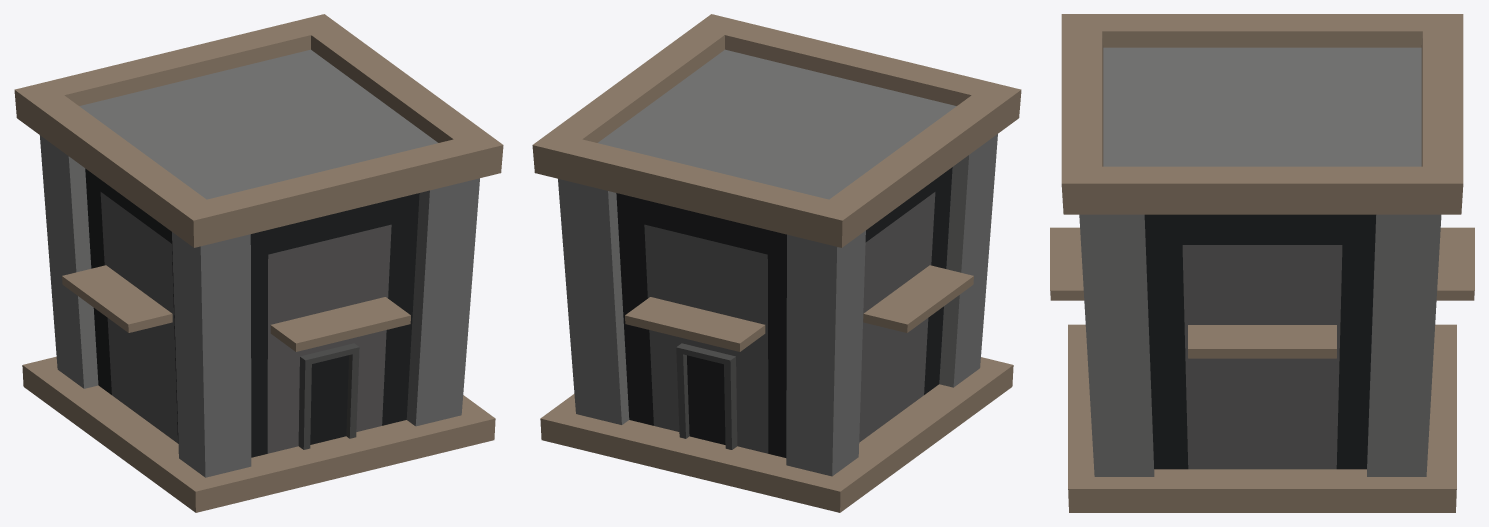
Rendered from Scene-Architecture_B-Architecture_B.glb.
The picture shows the model from 3 angles, left to right: view 1: azimuth 30°, elevation 25°; view 2: azimuth 150°, elevation 25°; view 3: azimuth 270°, elevation 25°; orthographic projection. The views are drawn at different scales.
Parts seen in each view (by area): view 1: Scene-Architecture_B-Architecture_B; view 2: Scene-Architecture_B-Architecture_B; view 3: Scene-Architecture_B-Architecture_B.
Boxes of the visible parts, left/top/right/bottom form: Scene-Architecture_B-Architecture_B: left=14, top=14, right=503, bottom=512; Scene-Architecture_B-Architecture_B: left=532, top=14, right=1021, bottom=512; Scene-Architecture_B-Architecture_B: left=1050, top=14, right=1474, bottom=512.
Bounding box in the file's own units: 4.37 × 3.78 × 4.37.
Materials: 1 (1 with a texture image).
